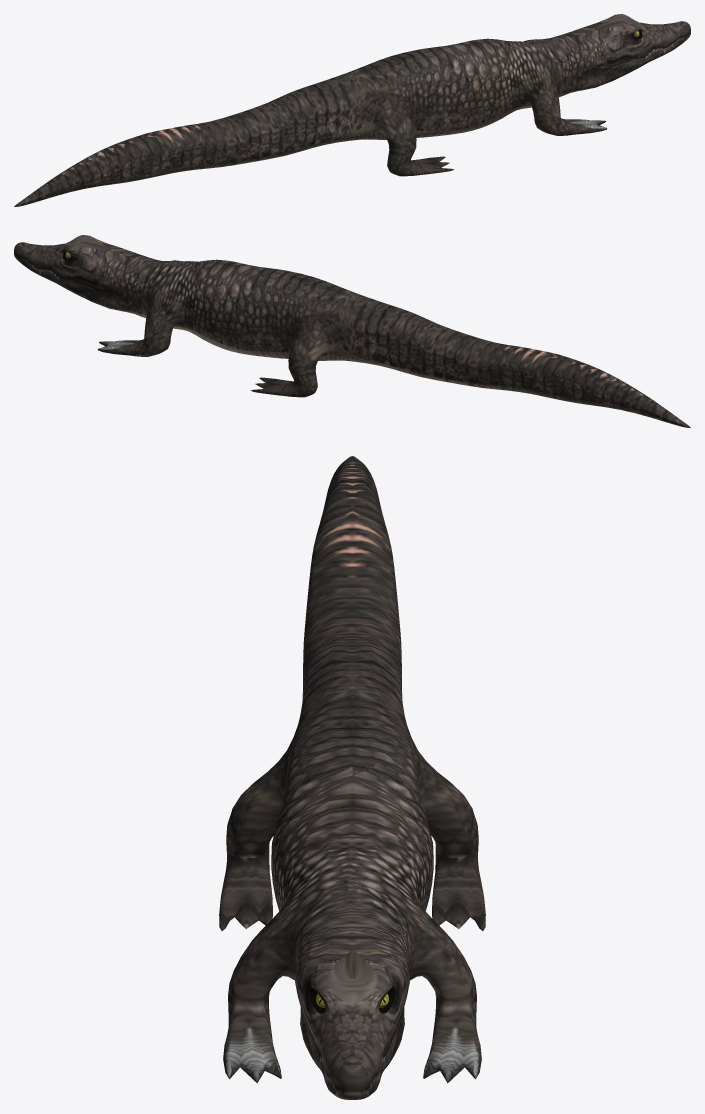
The model's file is model-crocodylus-niloticus.glb.
The picture shows the model from 3 angles, top to bottom: view 1: azimuth 30°, elevation 25°; view 2: azimuth 150°, elevation 25°; view 3: azimuth 270°, elevation 25°; orthographic projection. The views are drawn at different scales.
Visible parts, largest first — view 1: Plane_0; view 2: Plane_0; view 3: Plane_0.
Boxes of the visible parts, bbox=[...] form: Plane_0: bbox=[14, 14, 690, 206]; Plane_0: bbox=[14, 235, 690, 427]; Plane_0: bbox=[219, 456, 485, 1099].
Bounding box in the file's own units: 9.52 × 1.25 × 1.63.
Materials: 3 (2 with a texture image).
